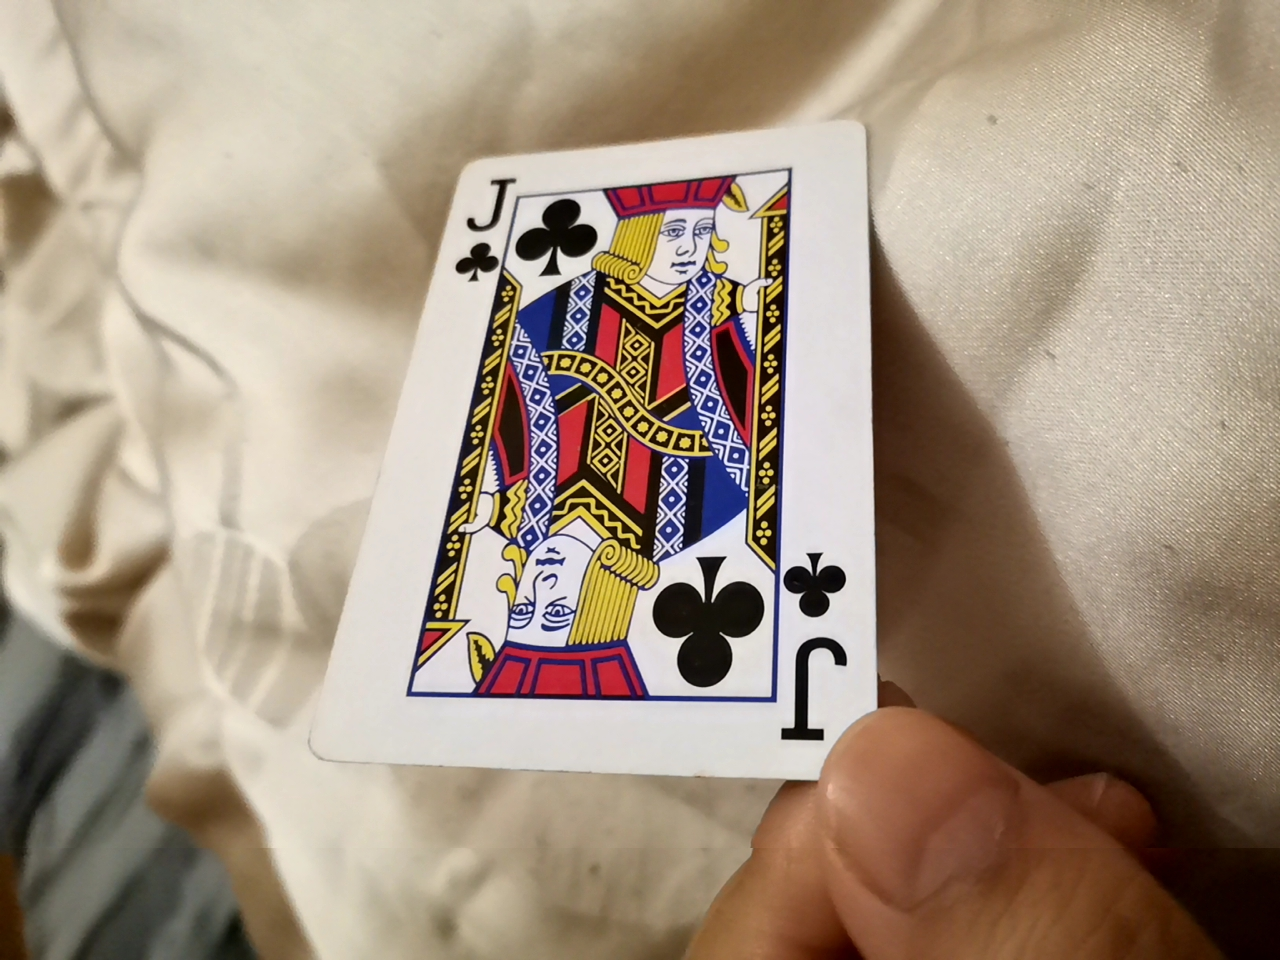mh j: (341, 133, 879, 803)
